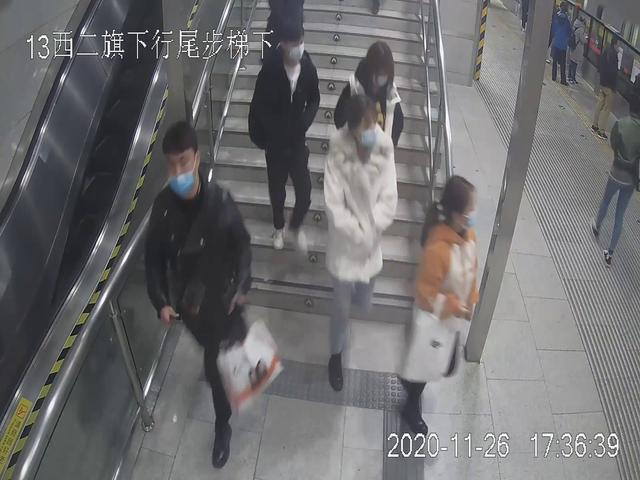person: (125, 126, 290, 468), (231, 16, 335, 268), (401, 171, 493, 441), (314, 100, 393, 392), (594, 92, 640, 270), (548, 1, 574, 87), (569, 8, 588, 78)
